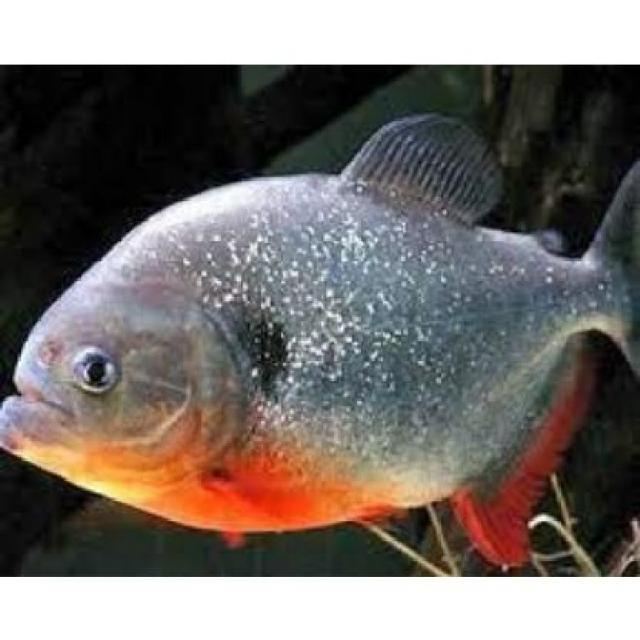ikan-pacu: (0, 130, 631, 522)
